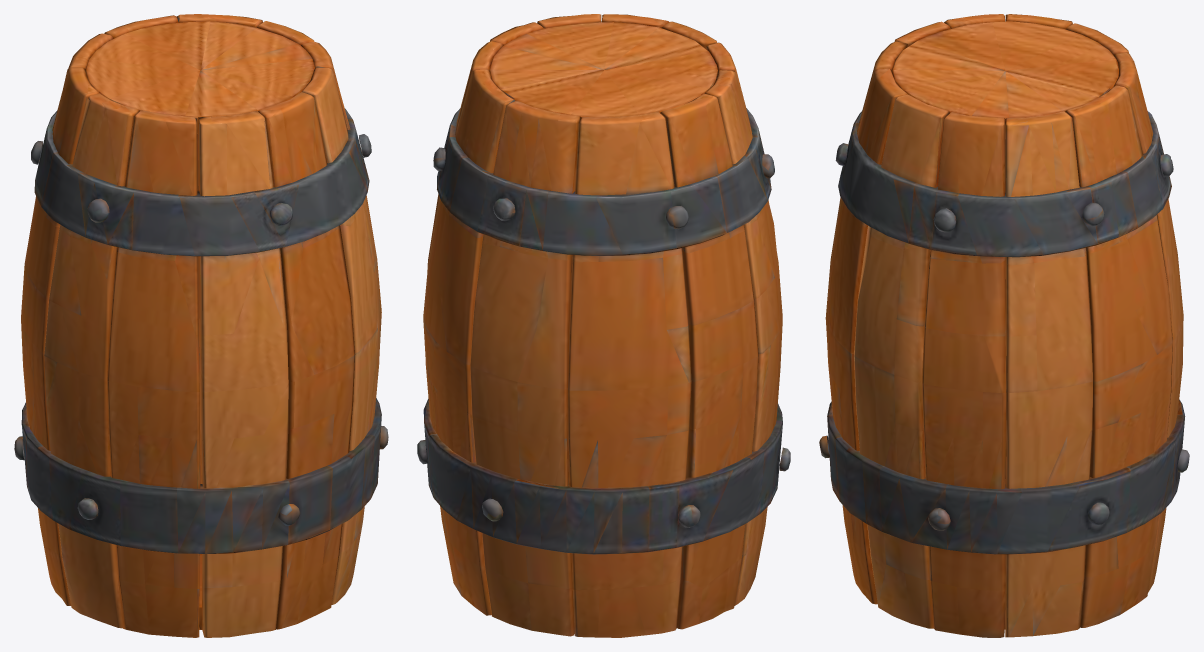
The model's file is barrel.glb.
3 views of the same model, side by side, from view 1: azimuth 30°, elevation 25°; view 2: azimuth 150°, elevation 25°; view 3: azimuth 270°, elevation 25° (orthographic).
Size of the model in its own units: 0.6523 by 1 by 0.6631.
Materials: 1 (1 with a texture image).
